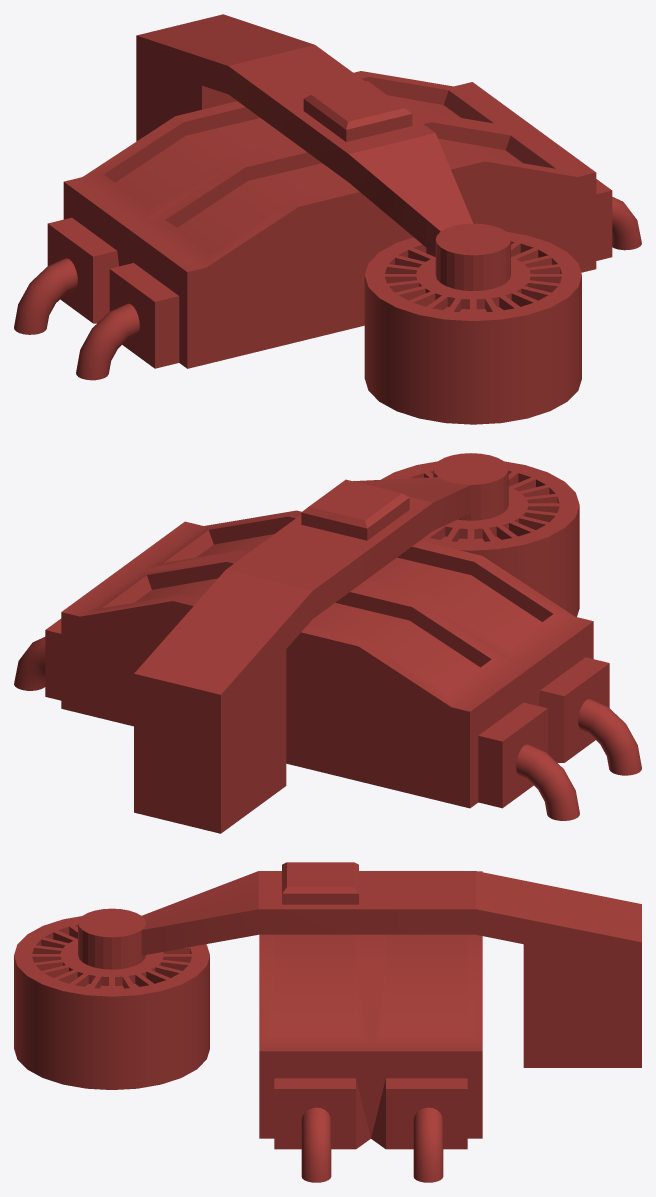
The model's file is mineral.fbx.
3 renders of one model, top to bottom at view 1: azimuth 30°, elevation 25°; view 2: azimuth 150°, elevation 25°; view 3: azimuth 270°, elevation 25°, orthographic. The views are drawn at different scales.
Visible parts, largest first — view 1: Buildings:mineral; view 2: Buildings:mineral; view 3: Buildings:mineral.
Part boxes in pixels (left/top/right/bottom): Buildings:mineral: left=14, top=14, right=641, bottom=424; Buildings:mineral: left=14, top=453, right=641, bottom=833; Buildings:mineral: left=14, top=862, right=641, bottom=1182.
Bounding box in the file's own units: 5.59 × 1.95 × 6.
